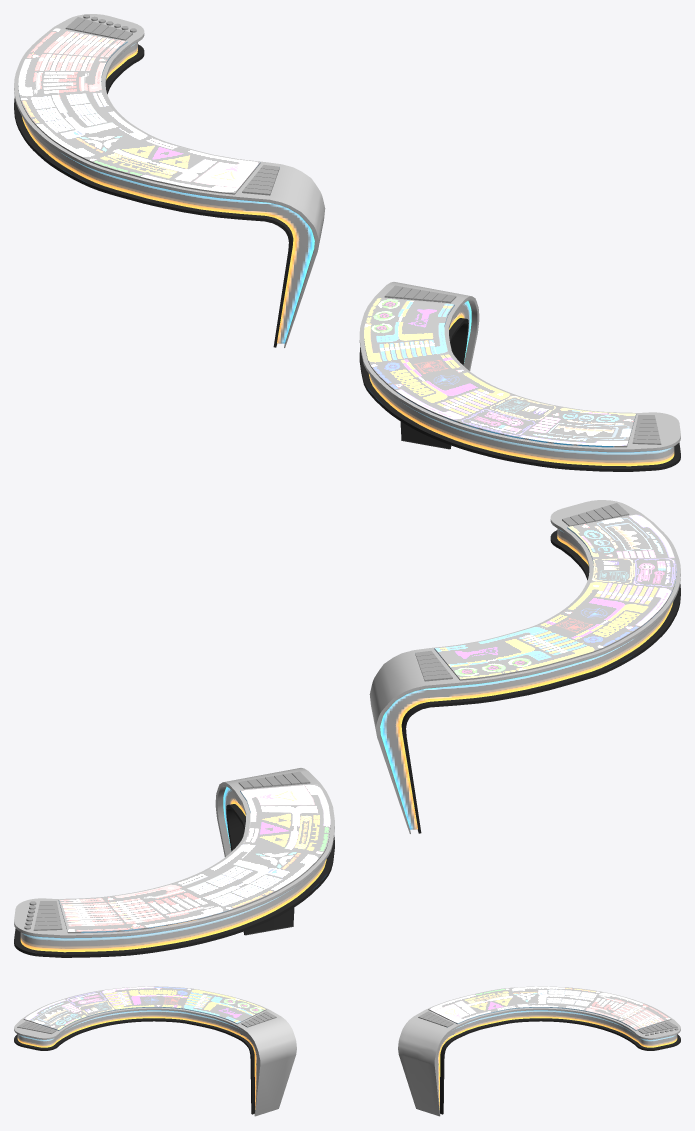
The model's file is SM_ControlTable.fbx.
3 views of the same model, one above another, from view 1: azimuth 30°, elevation 25°; view 2: azimuth 150°, elevation 25°; view 3: azimuth 270°, elevation 25° (orthographic). The views are drawn at different scales.
Parts seen in each view (by area): view 1: SM_ControlTable_LOD0; view 2: SM_ControlTable_LOD0; view 3: SM_ControlTable_LOD0.
Boxes of the visible parts, bbox=[...] form: SM_ControlTable_LOD0: bbox=[14, 14, 680, 471]; SM_ControlTable_LOD0: bbox=[14, 500, 680, 957]; SM_ControlTable_LOD0: bbox=[14, 986, 680, 1116].
Bounding box in the file's own units: 120 × 95.83 × 652.
2 materials, 1 textured.
